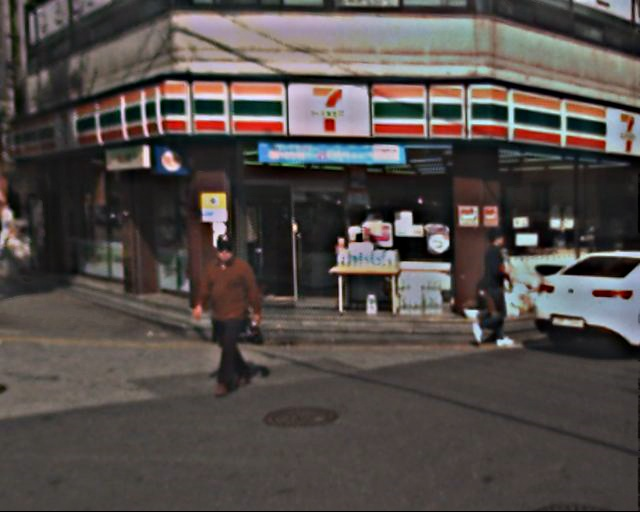person: (192, 235, 277, 394), (471, 230, 531, 351)
